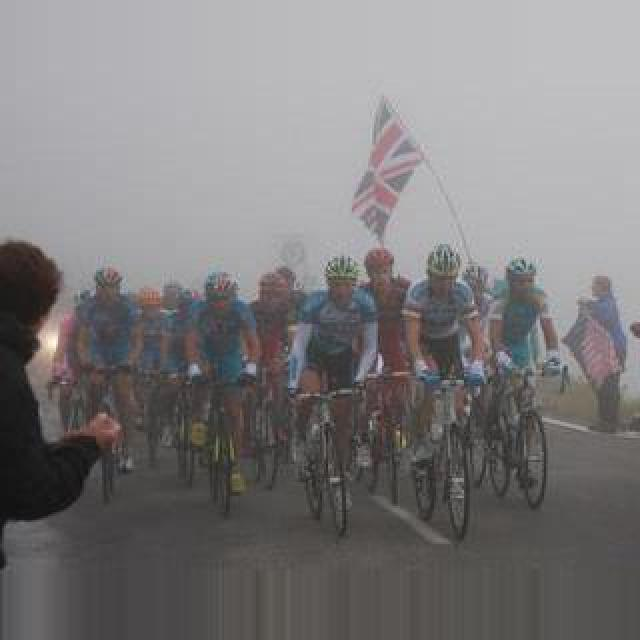MC-Bike: (0, 238, 112, 566), (288, 256, 380, 498), (402, 244, 488, 444), (488, 256, 562, 474), (188, 270, 262, 488), (250, 266, 304, 470), (566, 276, 628, 432), (360, 246, 410, 380)
Person: (422, 370, 490, 538), (488, 358, 552, 510), (298, 384, 358, 538), (364, 368, 412, 508), (196, 374, 240, 516), (454, 370, 494, 504)
